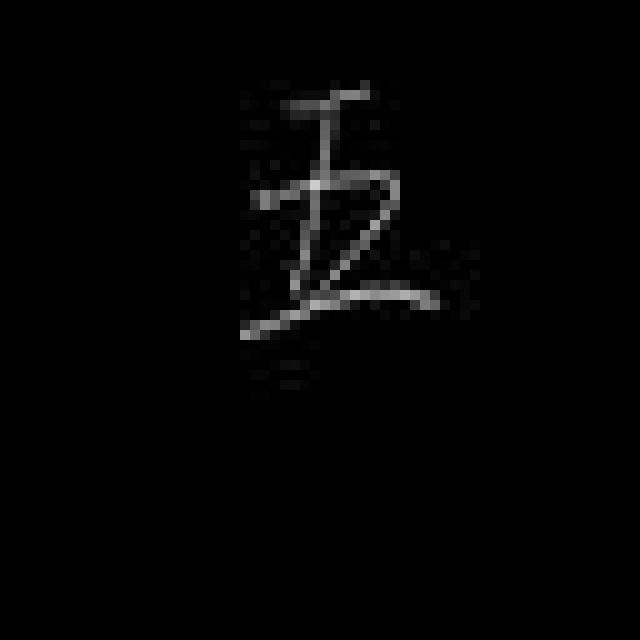5 -five-: (226, 73, 457, 351)
